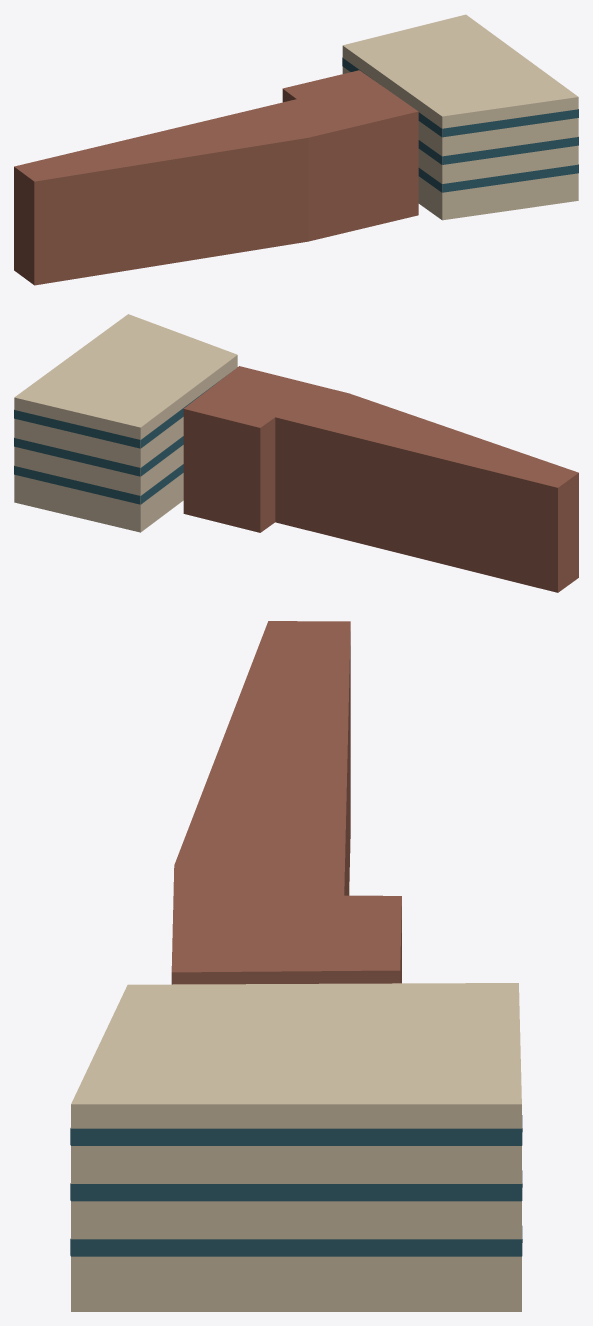
The model's file is city_10_3.glb.
3 views of the same model, one above another, from view 1: azimuth 30°, elevation 25°; view 2: azimuth 150°, elevation 25°; view 3: azimuth 270°, elevation 25° (orthographic). The views are drawn at different scales.
Visible parts, largest first — view 1: city_10_3; view 2: city_10_3; view 3: city_10_3.
Boxes of the visible parts, x1,y1,x2,y2 form: city_10_3: (14, 14, 578, 285); city_10_3: (14, 314, 578, 592); city_10_3: (70, 621, 522, 1311).
Bounding box in the file's own units: 74.86 × 15 × 29.59.
